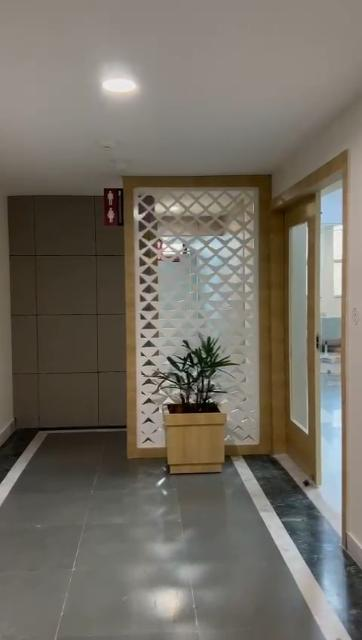door: (272, 207, 320, 478)
floor: (1, 431, 362, 640)
object: (163, 342, 234, 474)
